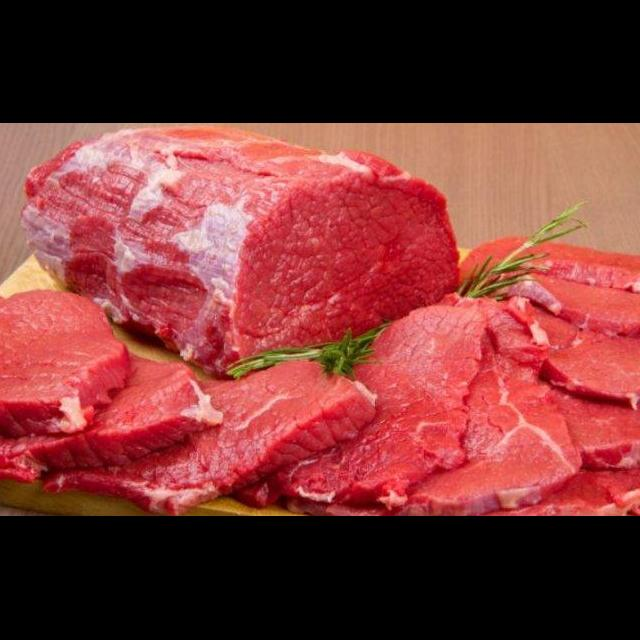beef: (11, 129, 481, 339), (229, 302, 497, 504), (74, 363, 383, 506), (0, 342, 228, 474), (467, 349, 640, 477), (0, 290, 122, 430), (456, 221, 640, 305), (461, 441, 640, 515), (477, 274, 640, 354), (524, 324, 640, 419)
